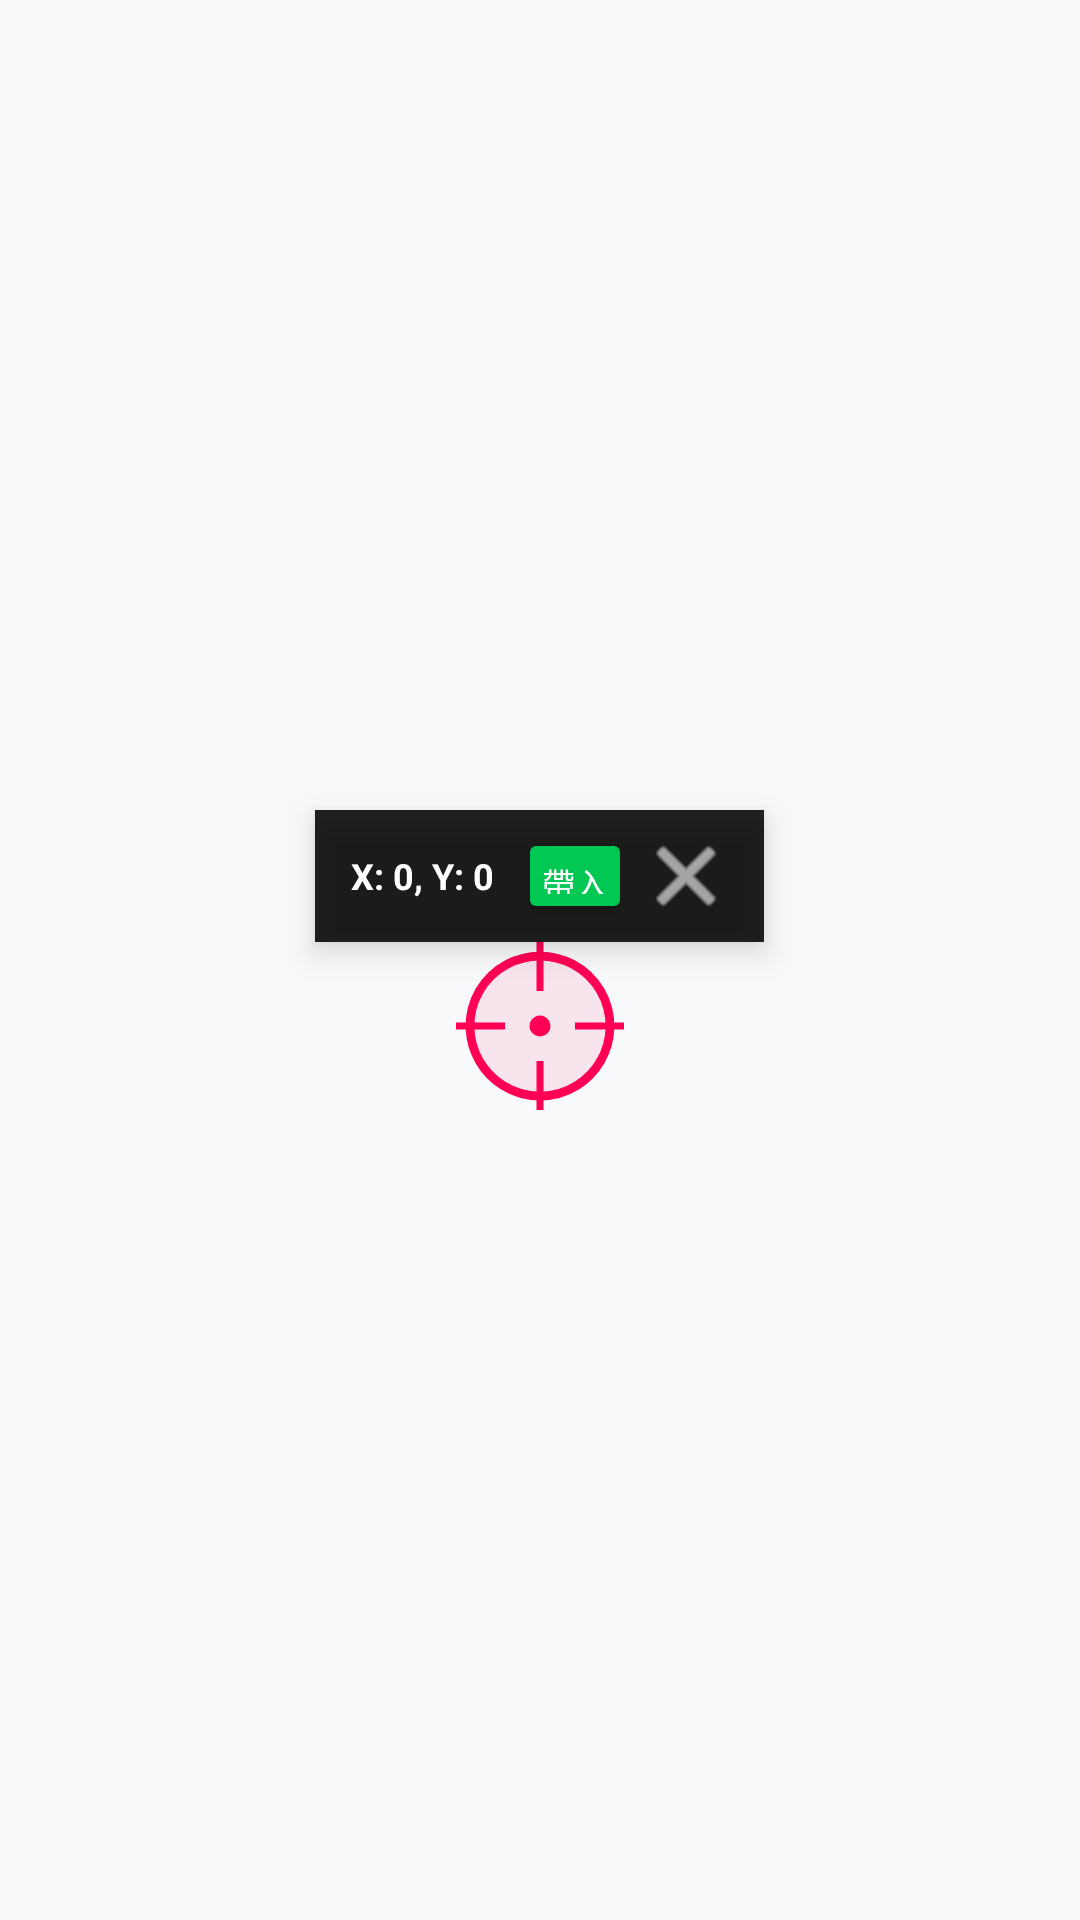

Locate icon controls on the screen. Image size 1080x1920, boxes as BBox(x1, y1, x2, y2).
Close: BBox(656, 846, 716, 906)
Target Crosshair: BBox(456, 942, 624, 1110)
